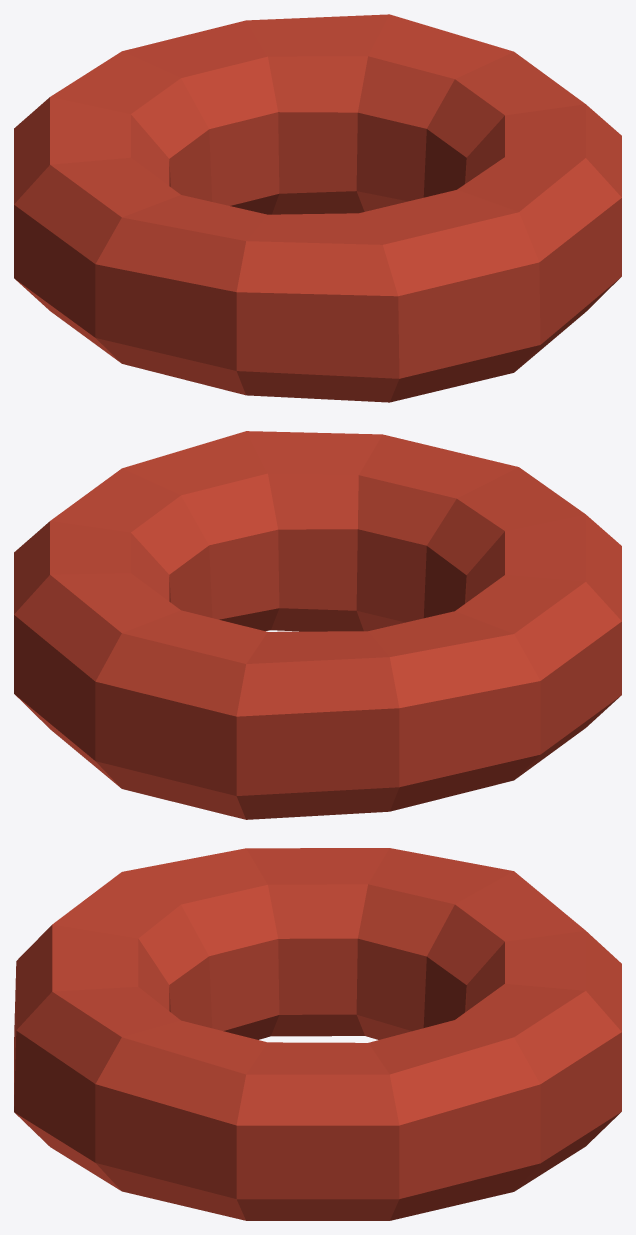
Rendered from FloatRing.obj.
3 views of the same model, one above another, from view 1: azimuth 30°, elevation 25°; view 2: azimuth 150°, elevation 25°; view 3: azimuth 270°, elevation 25° (orthographic).
Parts seen in each view (by area): view 1: FloatRing; view 2: FloatRing; view 3: FloatRing.
Part boxes in pixels (box(x1,y1,x2,y2)): FloatRing: box(14, 14, 621, 402); FloatRing: box(14, 431, 621, 819); FloatRing: box(14, 848, 621, 1220).
Bounding box in the file's own units: 1.1 × 0.3293 × 1.1.
1 material, 1 textured.
